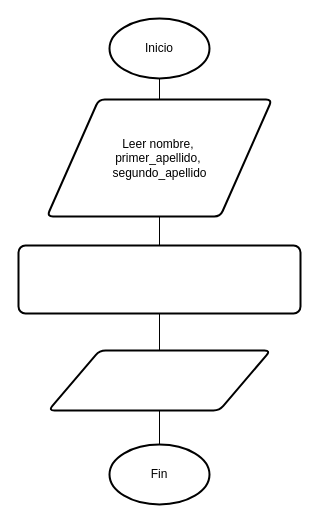
Some shapes in this 318 by 522 pixel diagram are drawn without their labels. Here are the shapes that lost their labels. From the top down, the box of each, then its label:
(17, 244, 301, 314): nombre-completo = nombre + primer_apellido + segundo_apellido
(47, 349, 271, 411): Imprimir nombre_completo
